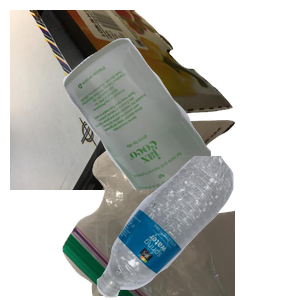cardboard: (10, 10, 238, 190)
glass: (60, 36, 300, 216)
plastic: (94, 156, 300, 300)
trash: (60, 120, 300, 300)
